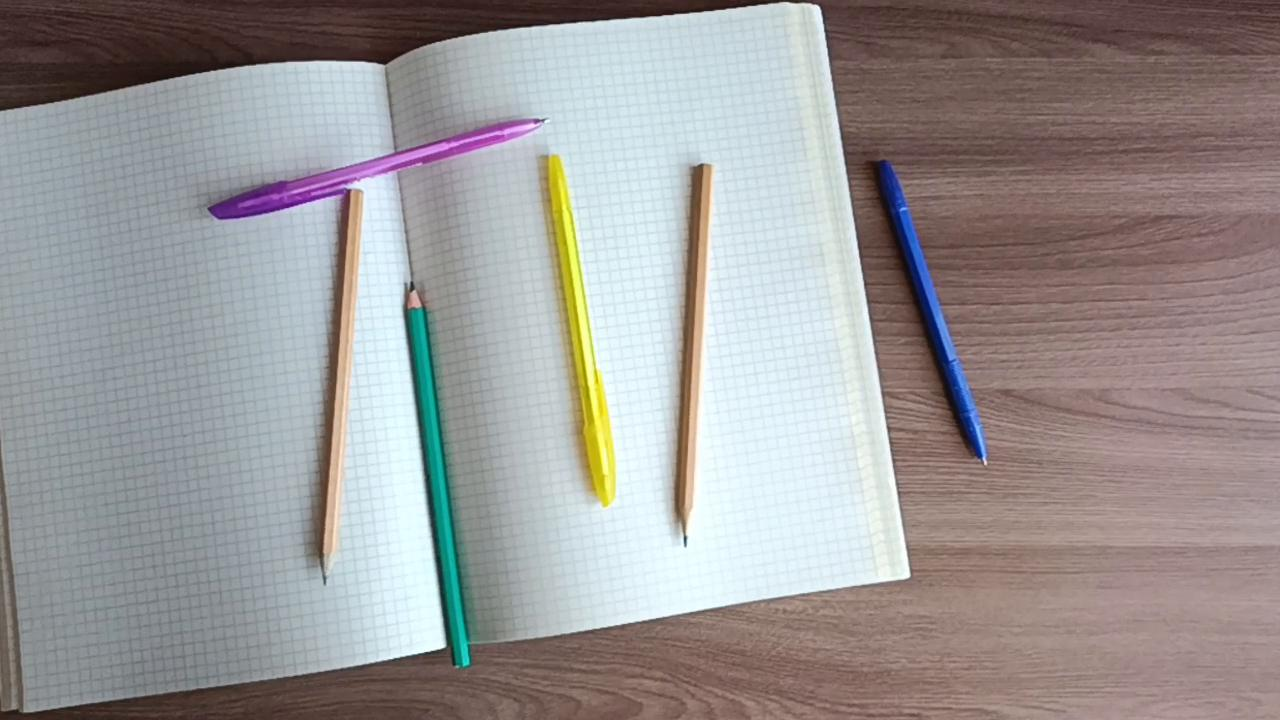pen: (205, 106, 561, 223), (866, 155, 996, 473), (541, 147, 627, 511)
pencil: (403, 279, 479, 675), (311, 186, 372, 592), (676, 157, 717, 548)
